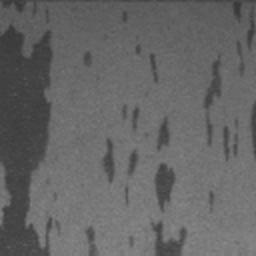Red iron sheet: (0, 0, 54, 256), (101, 104, 187, 255), (201, 0, 256, 159), (133, 42, 159, 83), (84, 227, 97, 256), (82, 49, 92, 68), (207, 192, 215, 210), (120, 12, 131, 23)
